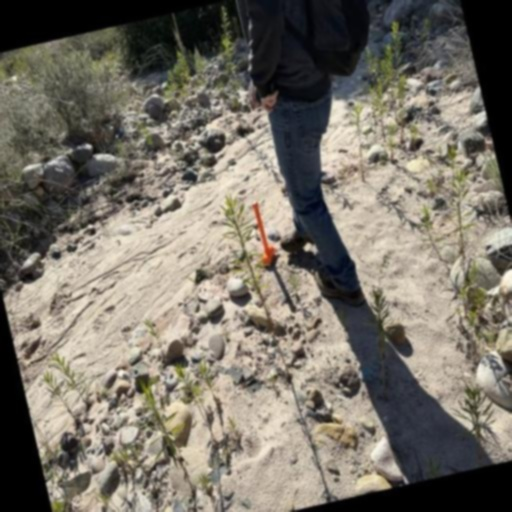mallet: (248, 198, 278, 268)
